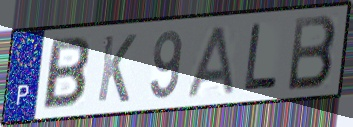9: (148, 28, 184, 102)
A: (184, 23, 237, 100)
B: (286, 13, 339, 94), (40, 35, 92, 113)
K: (95, 32, 139, 105)
L: (241, 21, 280, 94)
